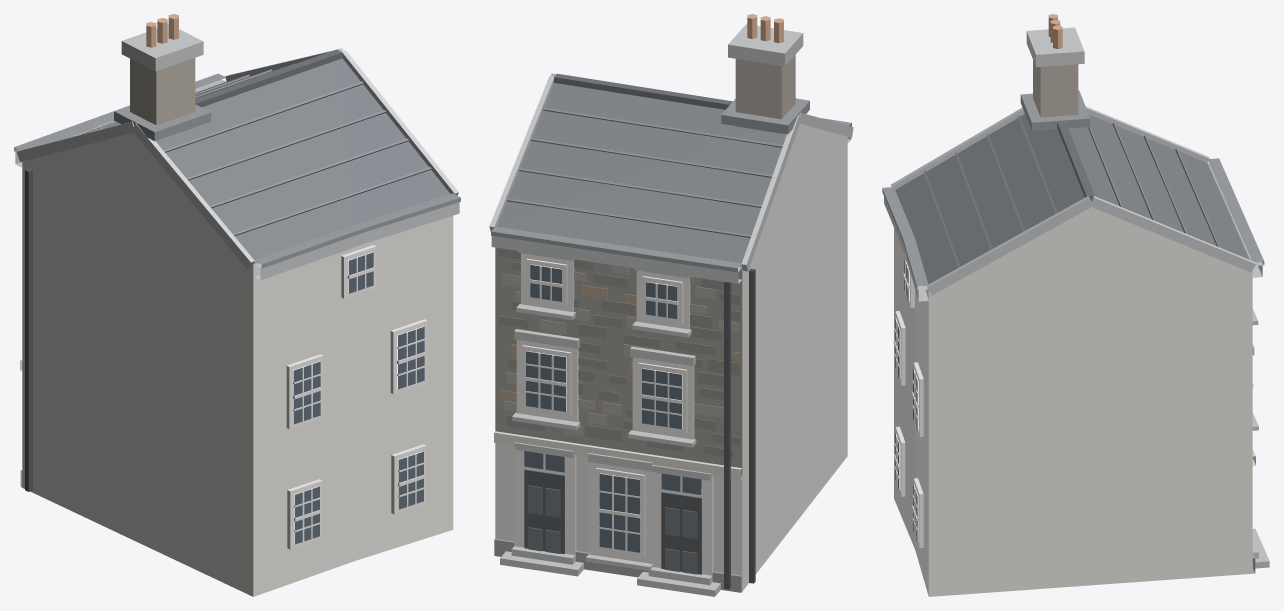
3 views of the same model, side by side, from view 1: azimuth 30°, elevation 25°; view 2: azimuth 150°, elevation 25°; view 3: azimuth 270°, elevation 25° (orthographic). The views are drawn at different scales.
Parts seen in each view (by area): view 1: harl, slate, stone_band, frame, lead, chim_stone, slate_lt, pipe, slate_dk, window_glass_010, window_glass_011, window_glass_008 (+3 smaller); view 2: harl, slate, frame, stone_band, rubble, rubble_dk, pipe, lead, door_dark, slate_lt, chim_stone, door_dark_p (+13 smaller); view 3: harl, slate, stone_band, lead, frame, slate_lt, chim_stone, slate_dk.
Part boxes in pixels (<box>): harl: <box>22,132,453,596</box>; slate: <box>81,58,449,264</box>; stone_band: <box>15,24,459,280</box>; frame: <box>286,245,427,549</box>; lead: <box>14,73,460,268</box>; chim_stone: <box>130,58,195,125</box>; slate_lt: <box>84,64,431,236</box>; pipe: <box>25,169,32,491</box>; slate_dk: <box>195,49,342,107</box>; window_glass_010: <box>293,361,320,424</box>; window_glass_011: <box>397,326,424,389</box>; window_glass_008: <box>294,486,319,544</box>; harl: <box>495,124,847,591</box>; slate: <box>497,83,786,267</box>; frame: <box>514,253,713,575</box>; stone_band: <box>489,24,853,596</box>; rubble: <box>495,247,742,474</box>; rubble_dk: <box>497,248,739,457</box>; pipe: <box>724,268,755,589</box>; lead: <box>491,98,851,272</box>; door_dark: <box>524,469,701,574</box>; slate_lt: <box>506,108,782,237</box>; chim_stone: <box>735,55,795,133</box>; door_dark_p: <box>528,485,697,574</box>; harl: <box>894,207,1252,596</box>; slate: <box>895,114,1249,284</box>; stone_band: <box>884,27,1269,568</box>; lead: <box>882,90,1264,289</box>; frame: <box>893,255,1253,547</box>; slate_lt: <box>923,115,1219,267</box>; chim_stone: <box>1033,60,1078,131</box>; slate_dk: <box>1057,121,1094,199</box>.
Bounding box in the file's own units: 7.31 × 12.35 × 9.14.
